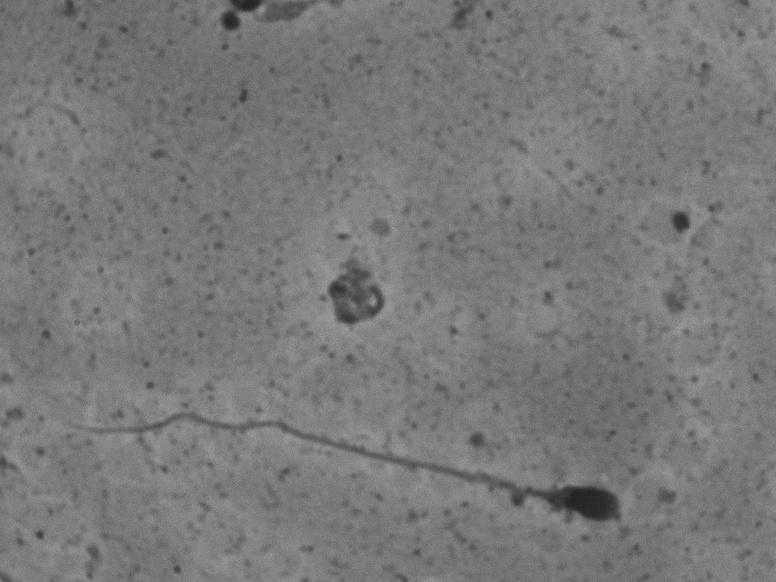Abnormal: (25, 399, 664, 529)
